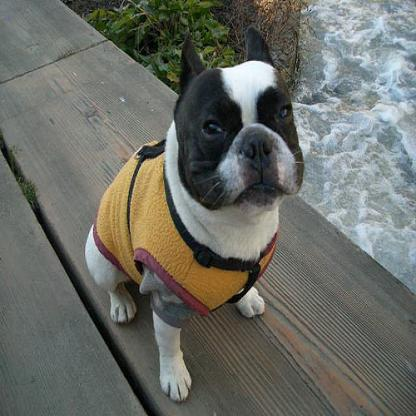French_bulldog: (82, 24, 304, 404)
